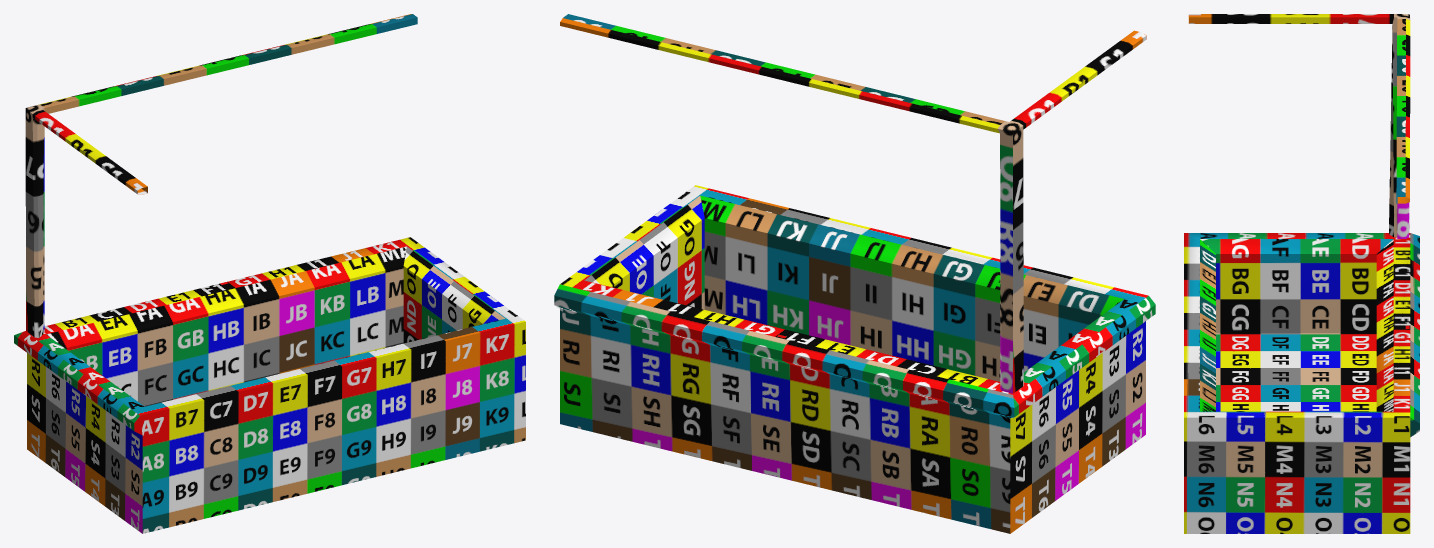
The model's file is bathtub.FBX.
3 renders of one model, left to right at view 1: azimuth 30°, elevation 25°; view 2: azimuth 150°, elevation 25°; view 3: azimuth 270°, elevation 25°, orthographic. The views are drawn at different scales.
Visible parts, largest first — view 1: bathtub; view 2: bathtub; view 3: bathtub.
Boxes of the visible parts, left/top/right/bottom form: bathtub: left=14, top=14, right=525, bottom=533; bathtub: left=554, top=14, right=1155, bottom=533; bathtub: left=1184, top=14, right=1419, bottom=533.
Bounding box in the file's own units: 3.49 × 2.92 × 1.85.
Materials: 1 (1 with a texture image).
